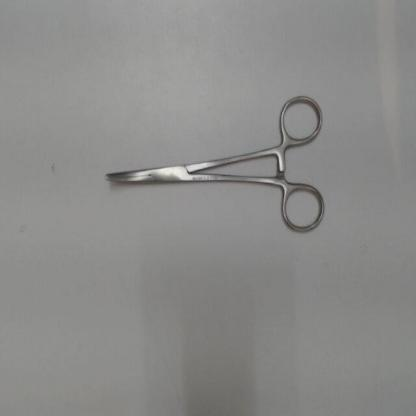Crile Artery Forceps: (94, 88, 330, 244)
